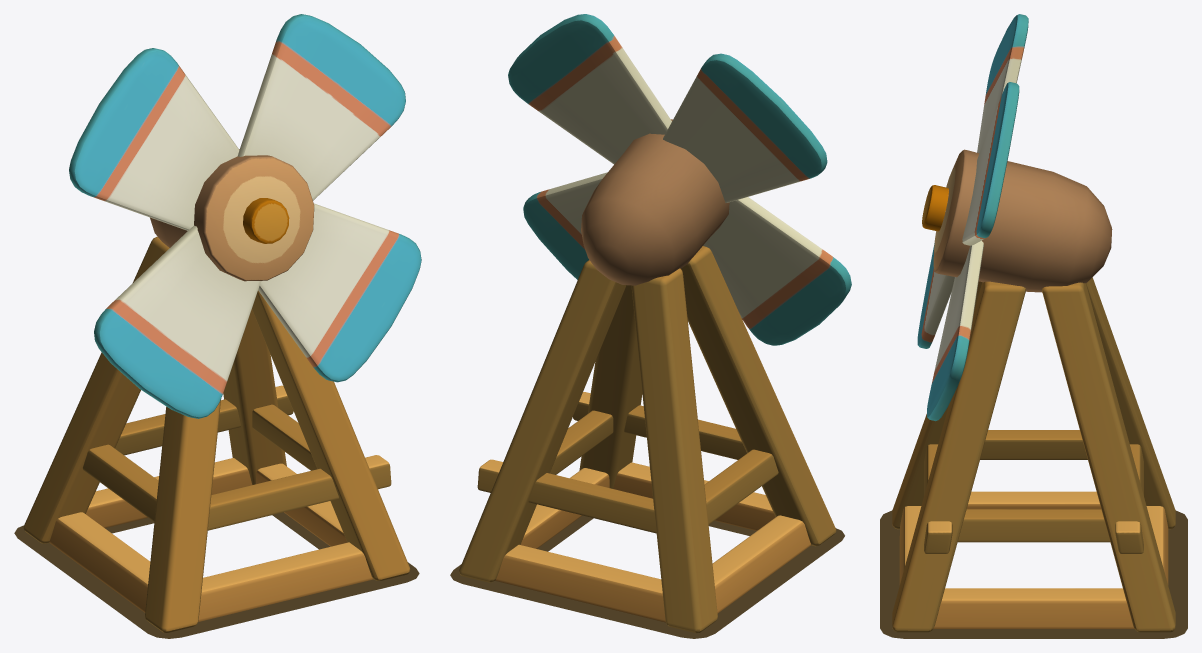
File: Pir_Windmill.fbx
The picture shows the model from 3 angles, left to right: view 1: azimuth 30°, elevation 25°; view 2: azimuth 150°, elevation 25°; view 3: azimuth 270°, elevation 25°; orthographic projection. The views are drawn at different scales.
Parts seen in each view (by area): view 1: polySurface8, polySurface18, polySurface16; view 2: polySurface18, polySurface8, polySurface16; view 3: polySurface18, polySurface8, polySurface16.
Boxes of the visible parts, x1=… form: polySurface8: x1=69, y1=14, x2=421, y2=418; polySurface18: x1=23, y1=236, x2=410, y2=632; polySurface16: x1=14, y1=512, x2=419, y2=638; polySurface18: x1=459, y1=246, x2=836, y2=633; polySurface8: x1=508, y1=14, x2=851, y2=345; polySurface16: x1=450, y1=515, x2=844, y2=638; polySurface18: x1=892, y1=277, x2=1175, y2=632; polySurface8: x1=917, y1=14, x2=1112, y2=421; polySurface16: x1=880, y1=510, x2=1187, y2=638.
Bounding box in the file's own units: 247 × 379 × 202.
